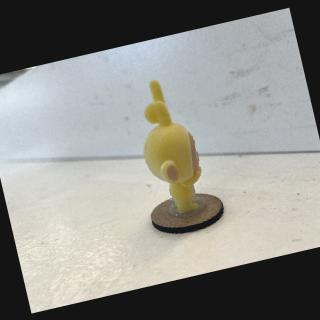teletubby: (143, 79, 201, 213)
